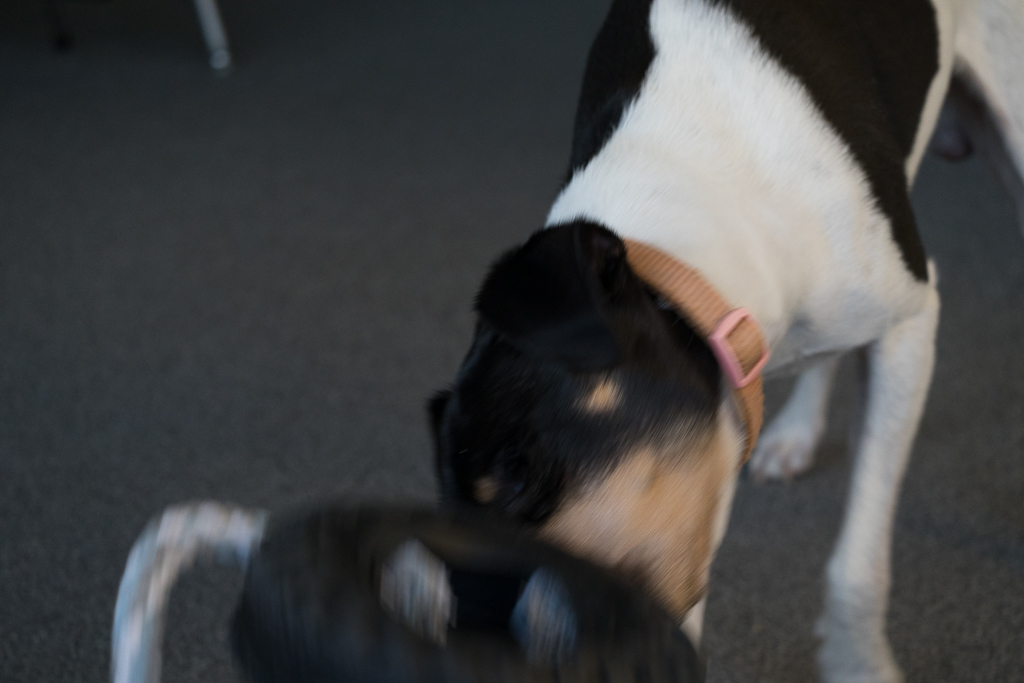Dog: (413, 0, 1024, 683)
